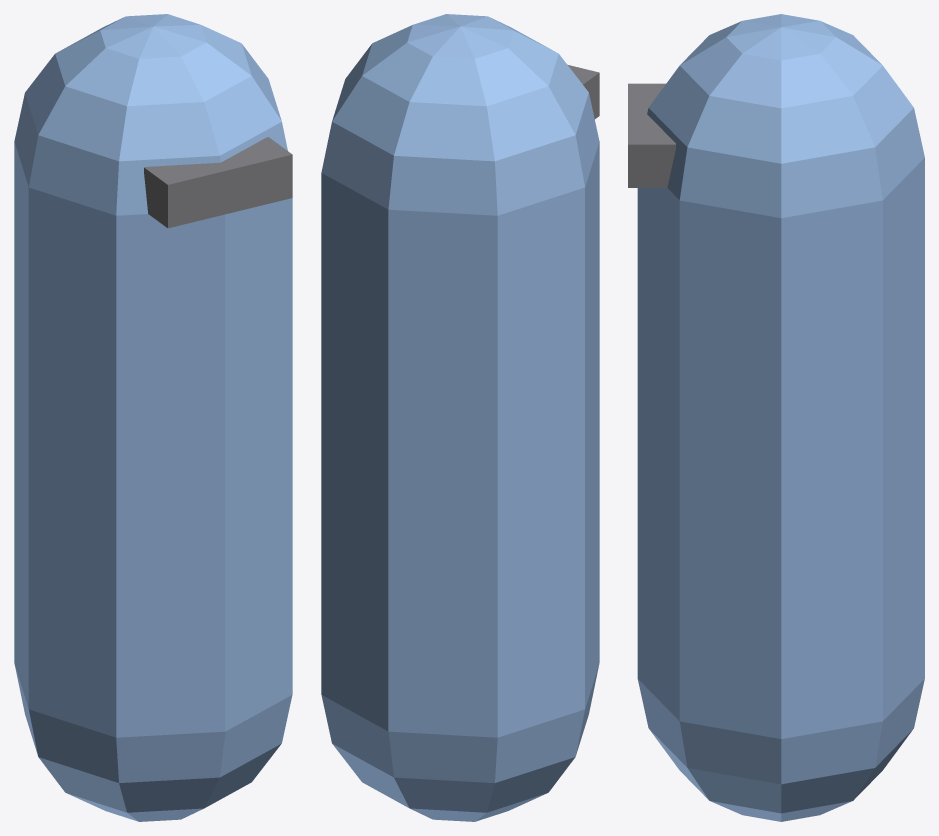
Rendered from player_scale_ref.glb.
The picture shows the model from 3 angles, left to right: view 1: azimuth 30°, elevation 25°; view 2: azimuth 150°, elevation 25°; view 3: azimuth 270°, elevation 25°; orthographic projection.
Visible parts, largest first — view 1: player_scale_ref_player, player_scale_ref_dark; view 2: player_scale_ref_player, player_scale_ref_dark; view 3: player_scale_ref_player, player_scale_ref_dark.
Boxes of the visible parts, left/top/right/bottom form: player_scale_ref_player: left=14, top=14, right=292, bottom=821; player_scale_ref_dark: left=144, top=137, right=292, bottom=228; player_scale_ref_player: left=321, top=14, right=599, bottom=821; player_scale_ref_dark: left=567, top=64, right=599, bottom=119; player_scale_ref_player: left=637, top=14, right=924, bottom=821; player_scale_ref_dark: left=628, top=83, right=675, bottom=187.
Bounding box in the file's own units: 0.6 × 1.8 × 0.62.
